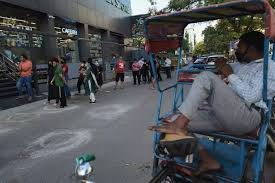mask: (235, 32, 263, 63), (52, 61, 57, 67), (60, 57, 65, 63), (47, 61, 52, 66)
